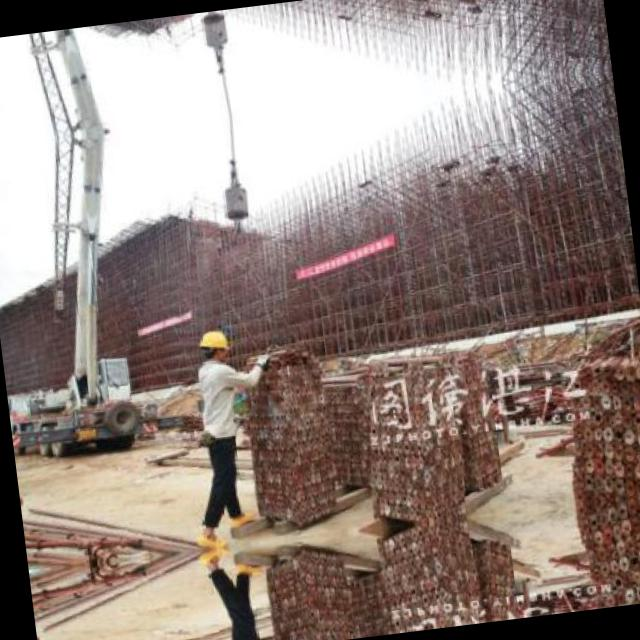helmet: (196, 325, 230, 363)
